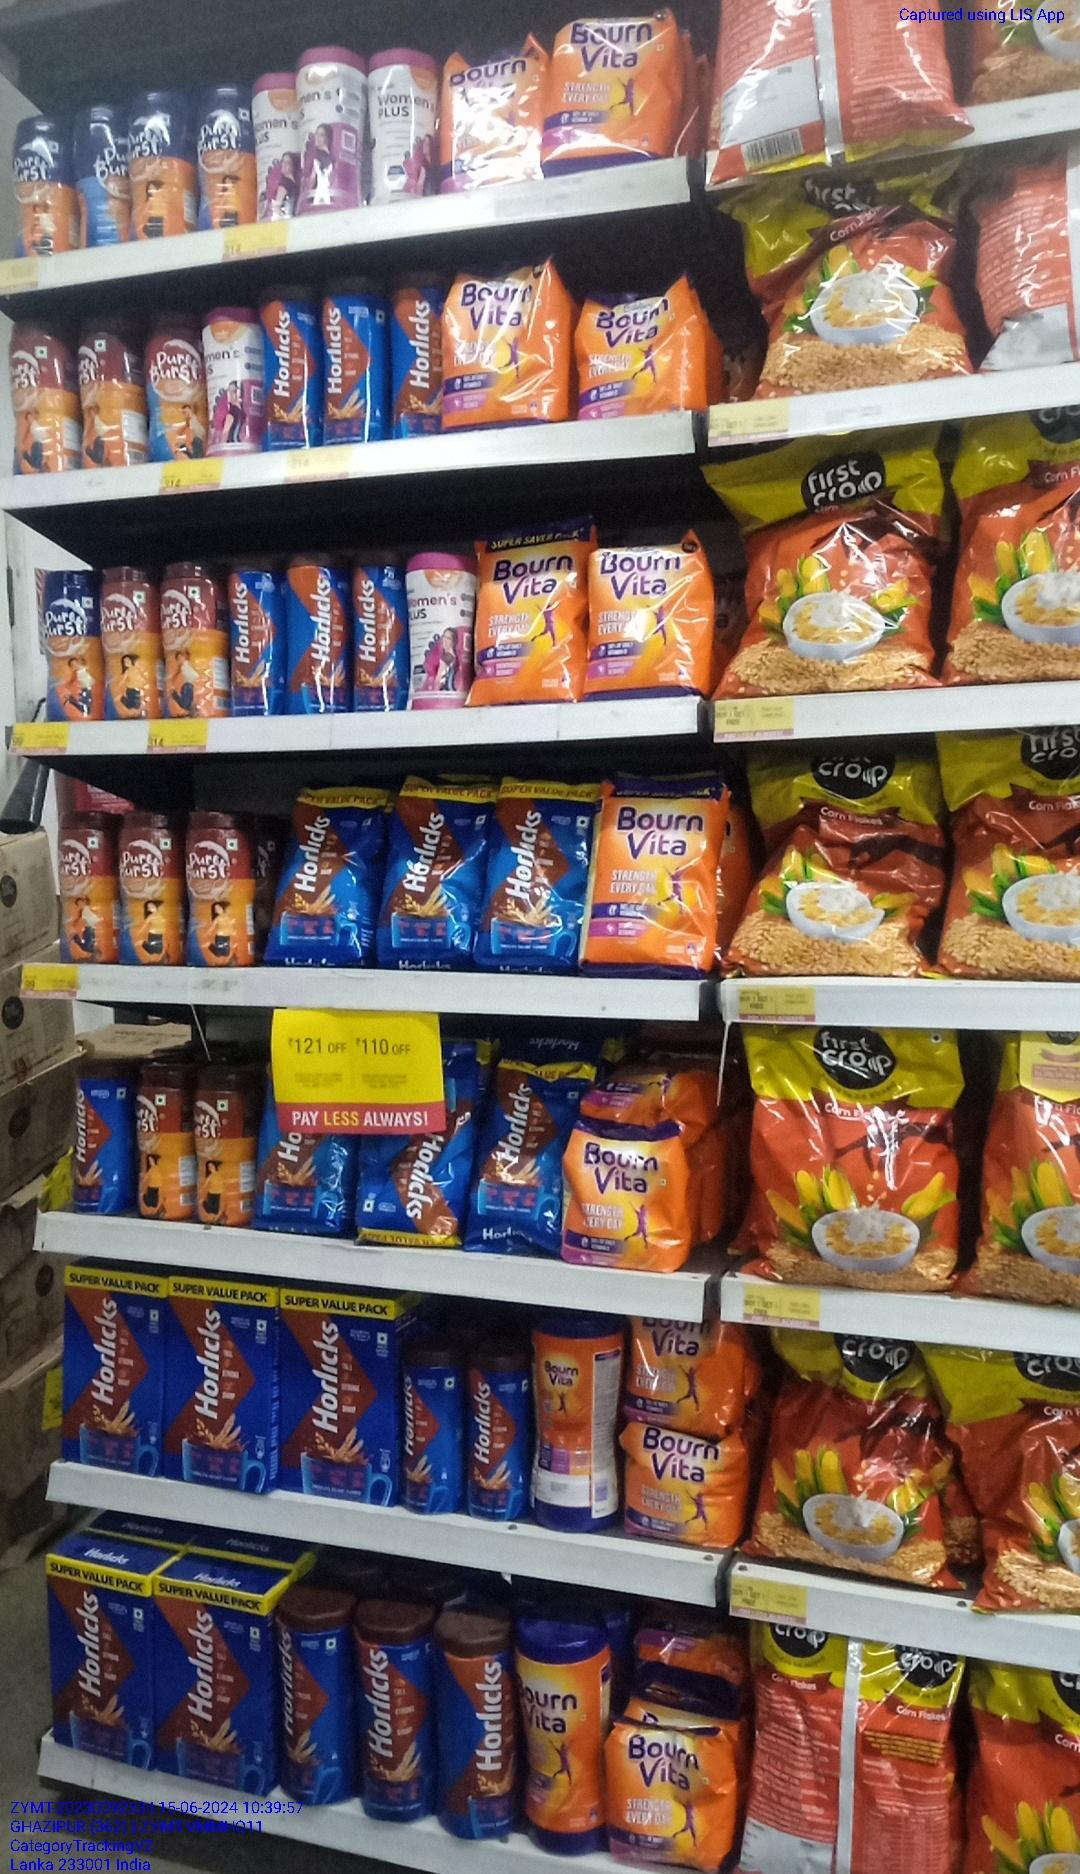BOURN_VITA_1_KG_POUCH: (590, 775, 723, 978), (475, 519, 581, 698)
BOURN_VITA_500_G_POUCH: (600, 1717, 738, 1873), (563, 1121, 687, 1278), (578, 275, 704, 412), (619, 1420, 747, 1545)
BOURN_VITA_750_G_POUCH: (443, 257, 565, 427), (591, 538, 714, 701), (547, 10, 671, 165)
HORLICK_CHOCOLATE_1_KG_JAR: (434, 1602, 519, 1838), (273, 1584, 349, 1812), (357, 1586, 430, 1817)
HORLICK_CHOCOLATE_1_KG_PACK: (278, 1287, 395, 1502), (59, 1260, 166, 1485), (44, 1552, 154, 1765), (161, 1579, 265, 1794), (169, 1281, 266, 1490)
HORLICK_CHOCOLATE_500_G_JAR: (403, 1339, 465, 1512), (326, 272, 386, 447), (283, 551, 348, 712), (261, 281, 321, 452), (471, 1345, 523, 1526), (227, 551, 282, 717), (75, 1066, 131, 1221), (391, 266, 439, 441), (354, 547, 404, 710)
HORLICK_CHOCOLATE_750_G_POUCH: (484, 774, 581, 969), (380, 777, 479, 965), (275, 786, 373, 970), (483, 1052, 560, 1259)
